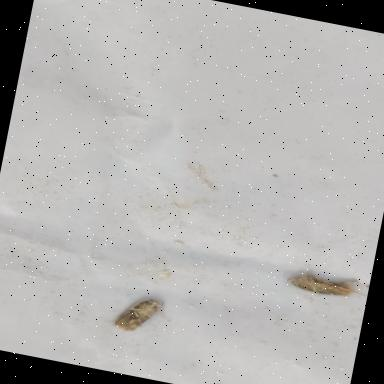pbw: (281, 266, 370, 304), (112, 292, 164, 338)
